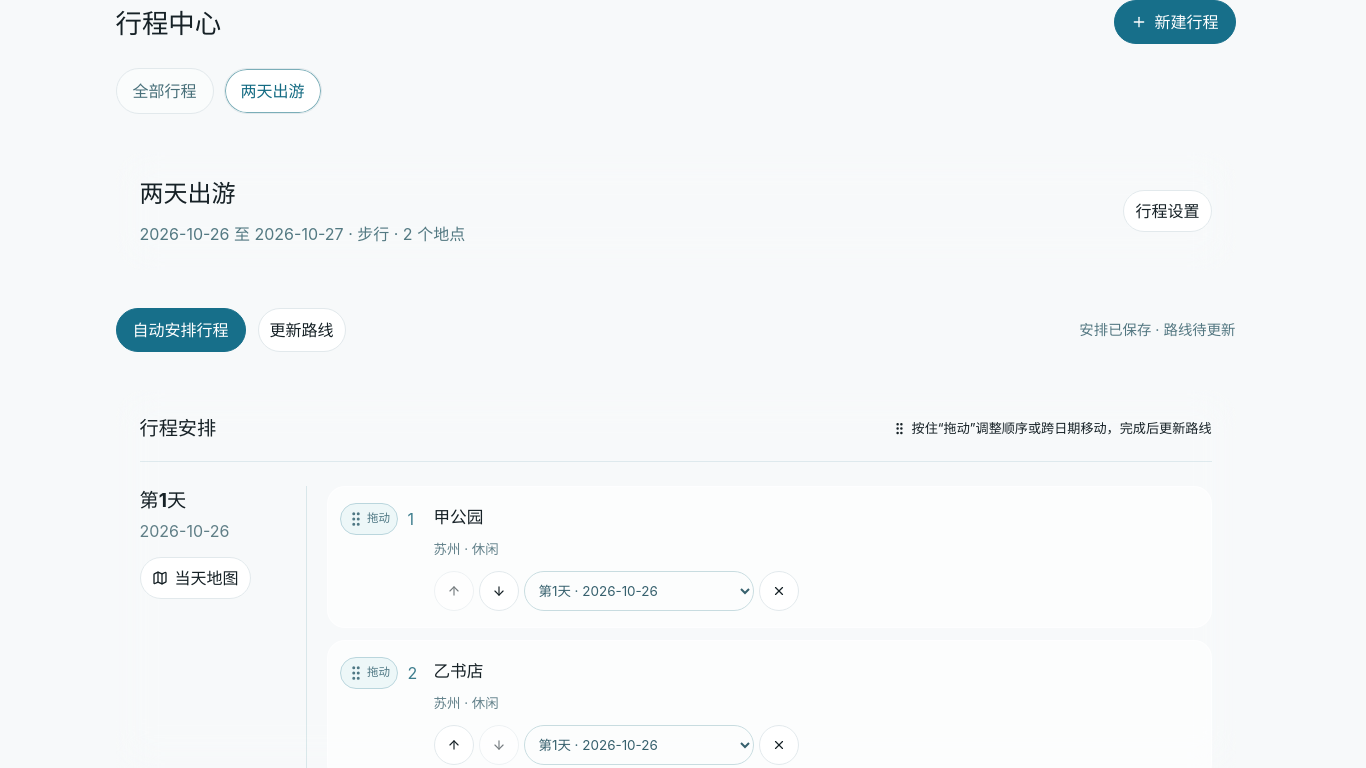
Test: offers an explicit real-road update inside the map and opens the bound walking segment in AMap
The image size is (1366, 768).
Expected: the heading "两天出游" is shown, [140,179,236,208]
Click the button "当天地图": point(195, 578) [140,557,250,599]
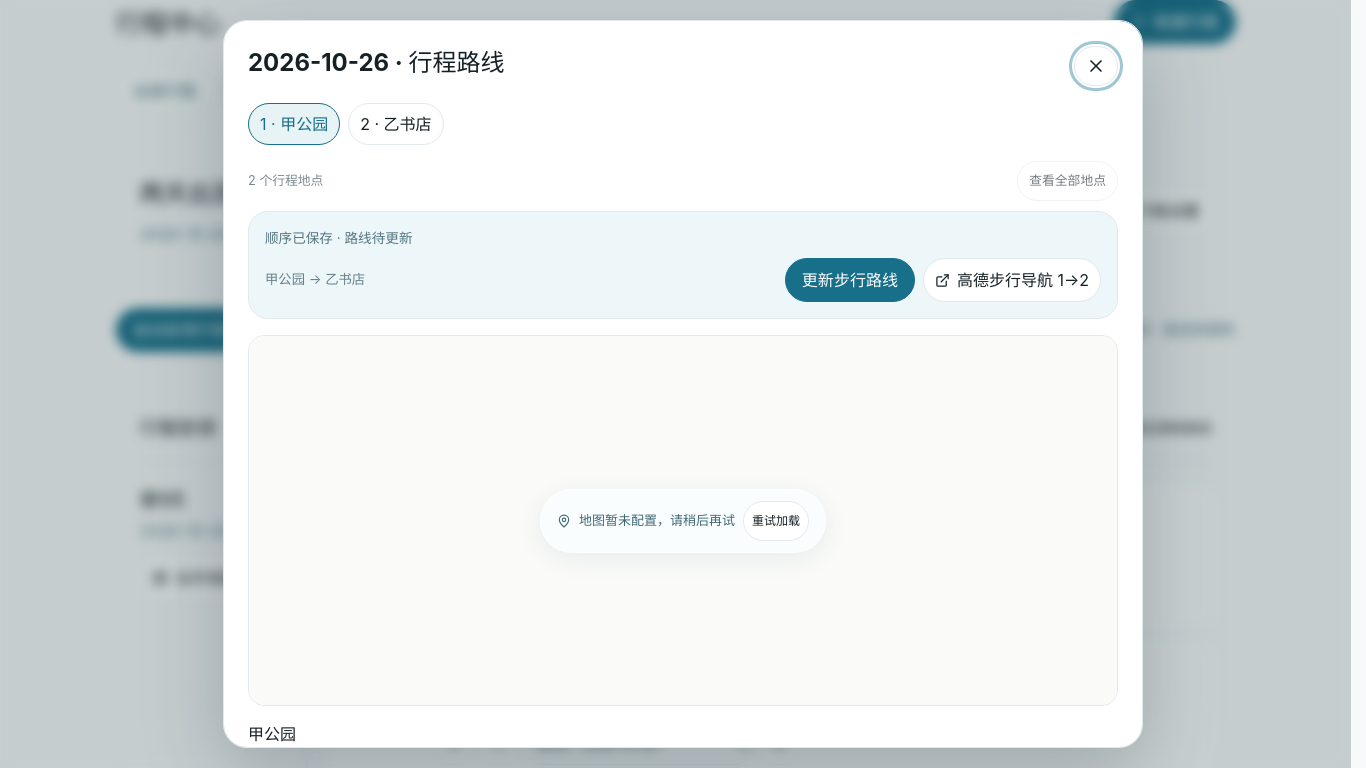
Expected: the text "顺序已保存 · 路线待更新" is shown, [265,230,412,246]
Click the button "更新步行路线": point(850, 280) [785,258,915,302]
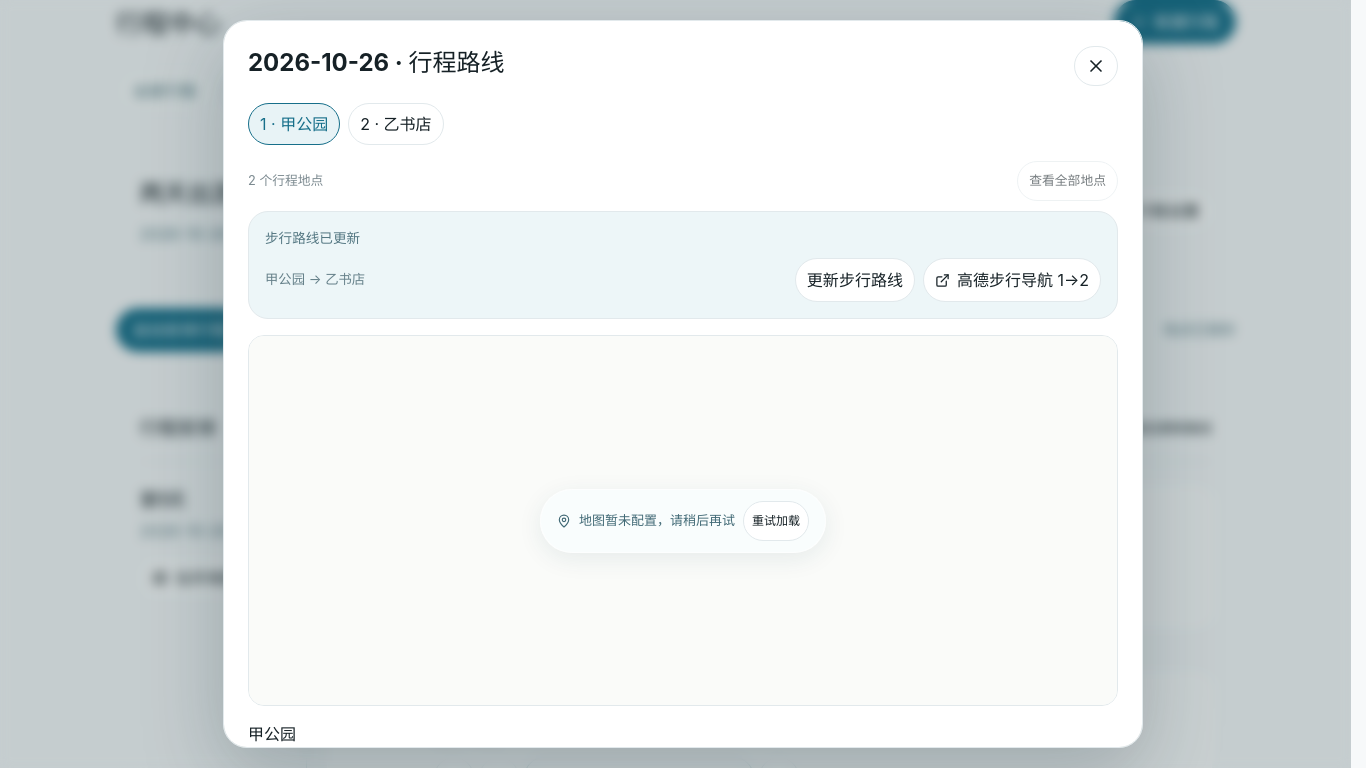
Expected: the text "步行路线已更新" is shown, [265,230,360,246]
